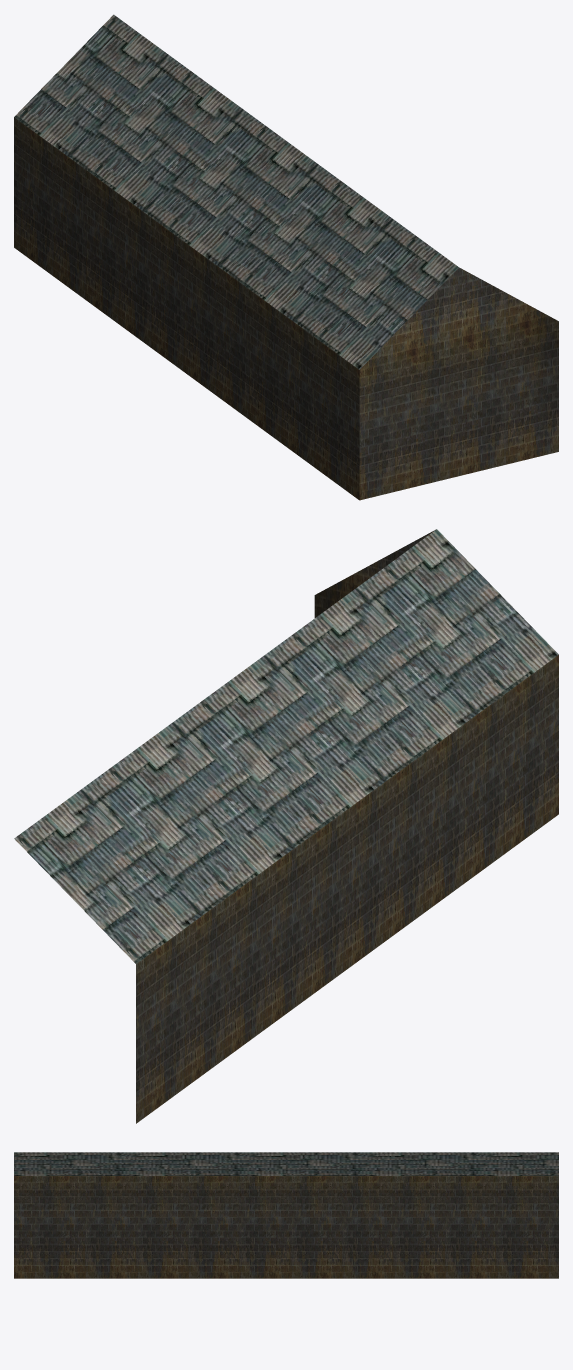
File: M10_Z02_13_WareHousesB.glb
The picture shows the model from 3 angles, top to bottom: view 1: azimuth 30°, elevation 25°; view 2: azimuth 150°, elevation 25°; view 3: azimuth 270°, elevation 25°; orthographic projection. The views are drawn at different scales.
Visible parts, largest first — view 1: M10_Z02_13_WAREHOUSESB; view 2: M10_Z02_13_WAREHOUSESB; view 3: M10_Z02_13_WAREHOUSESB.
Part boxes in pixels (x1=…): M10_Z02_13_WAREHOUSESB: x1=14, y1=14, x2=558, y2=500; M10_Z02_13_WAREHOUSESB: x1=14, y1=529, x2=558, y2=1123; M10_Z02_13_WAREHOUSESB: x1=14, y1=1152, x2=558, y2=1278.
Bounding box in the file's own units: 8 × 8 × 24.
2 materials, 2 textured.
